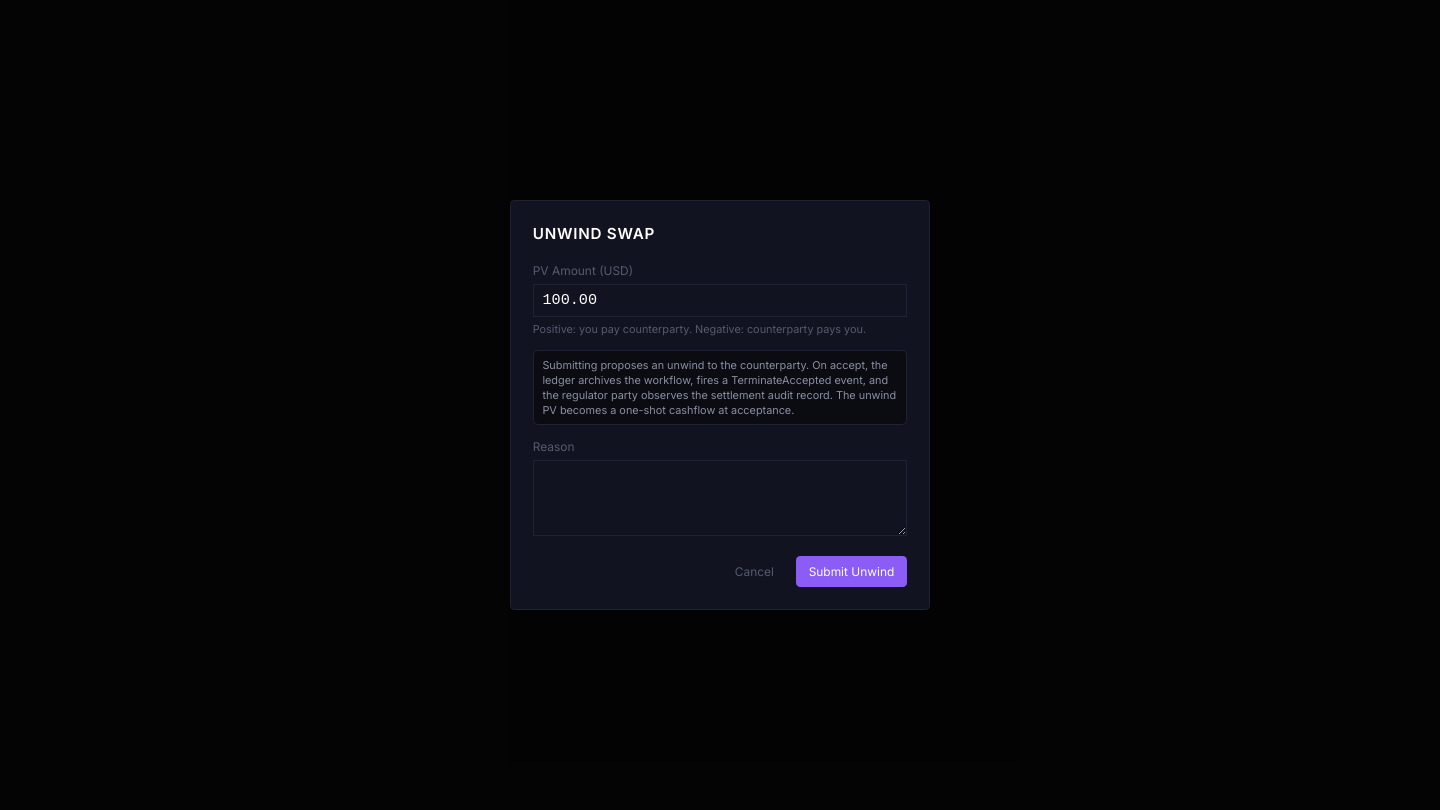
UnwindModal › shows validation error for non-numeric PV
The width and height of the screenshot is (1440, 810).
Replace the text in the field labelled "PV Amount (USD)" with "not-a-number" at {"x": 720, "y": 300}, box left=533, top=284, right=907, bottom=317
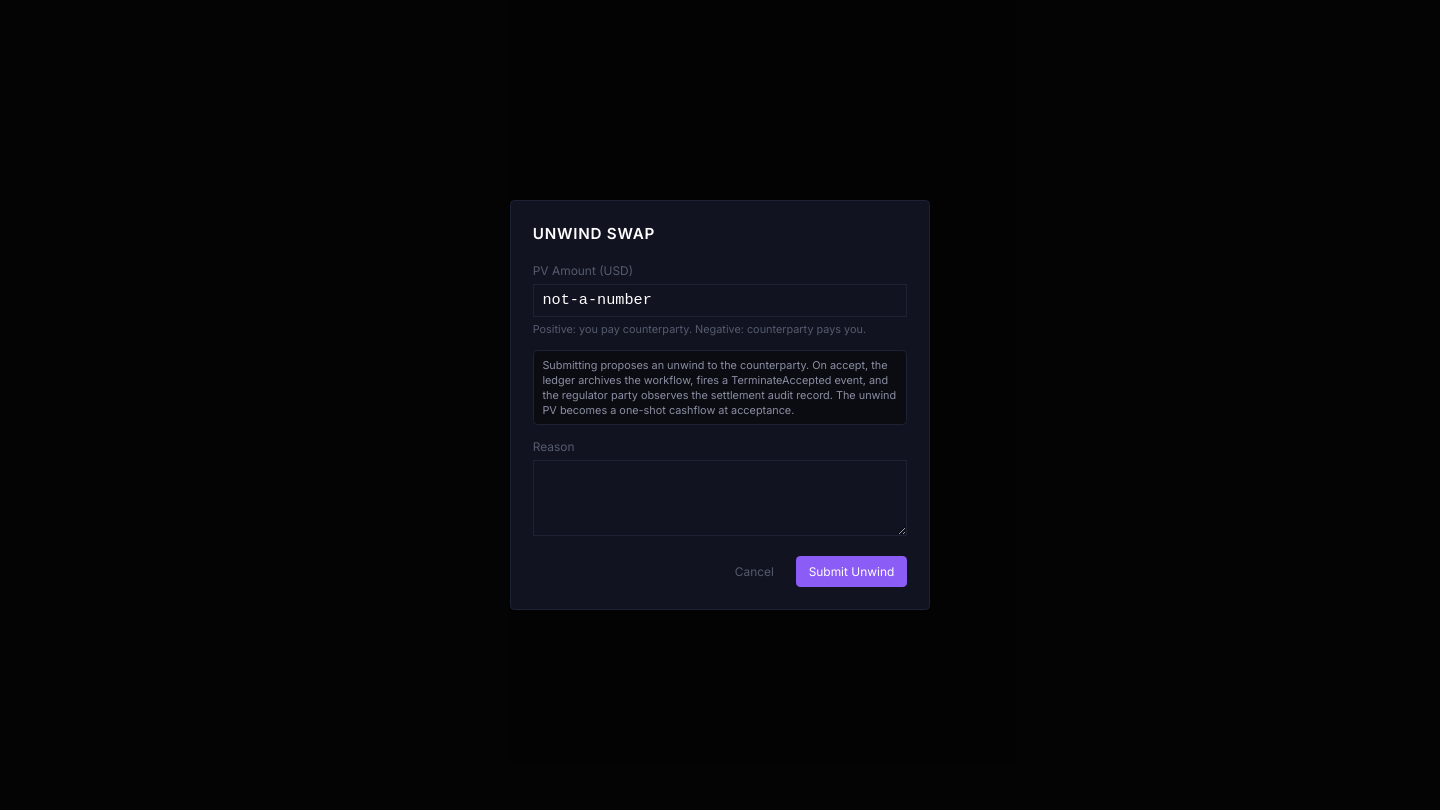
Type "ok" into the text box labelled "Reason" at {"x": 720, "y": 498}, box left=533, top=460, right=907, bottom=536
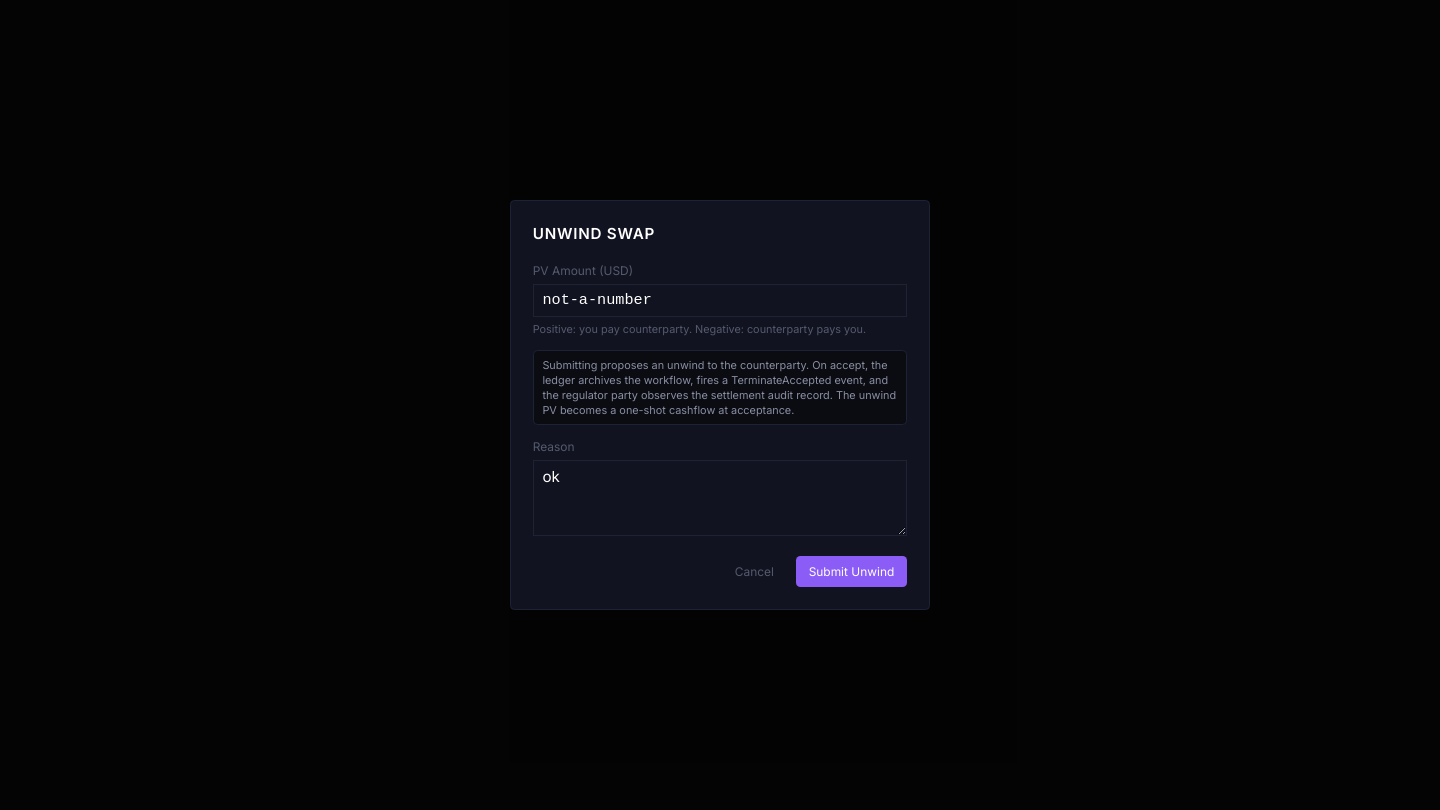
Click the button "Submit Unwind" at {"x": 851, "y": 572}, box left=796, top=556, right=907, bottom=587
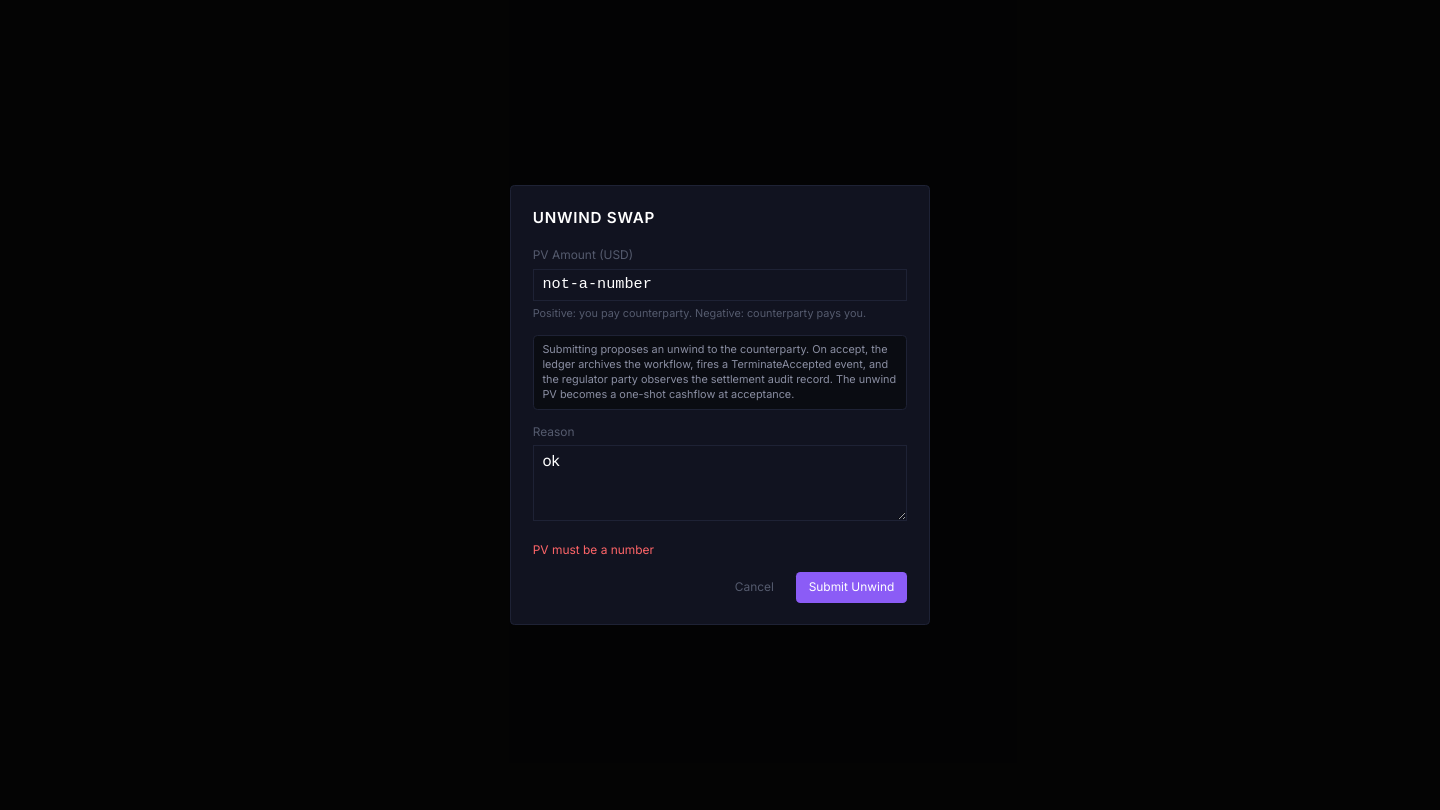
Now the text "PV must be a number" is shown, box left=533, top=542, right=654, bottom=557
